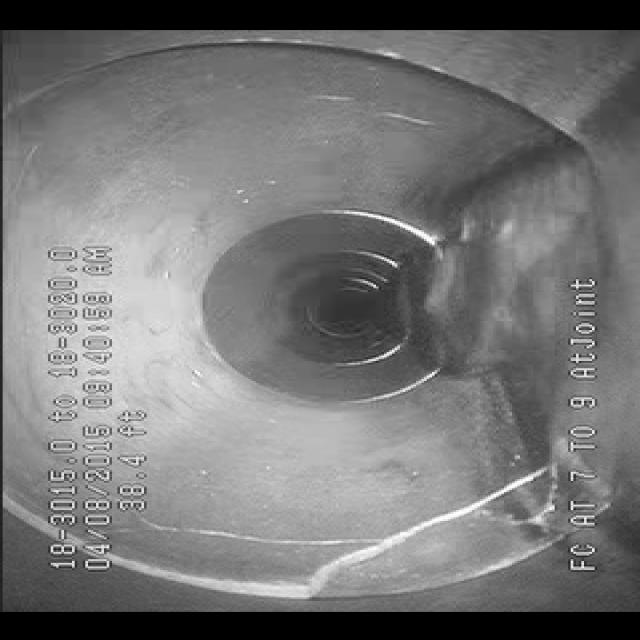Fracture: (292, 466, 548, 602)
